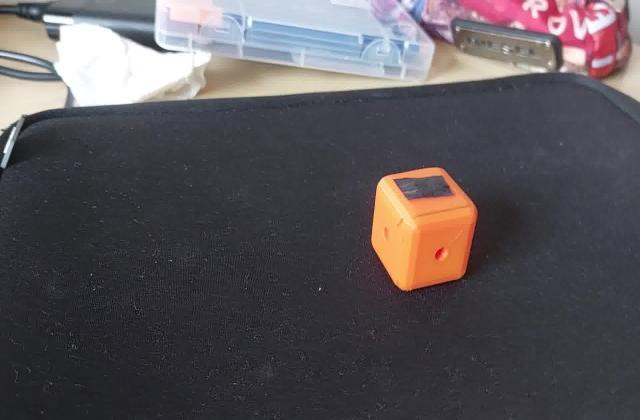black: (391, 171, 453, 205)
cube: (371, 166, 483, 300)
